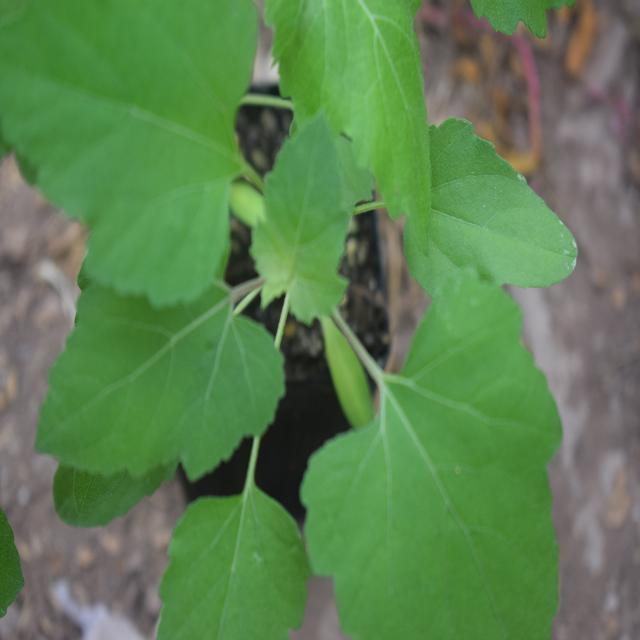cocklebur: (0, 8, 567, 624)
